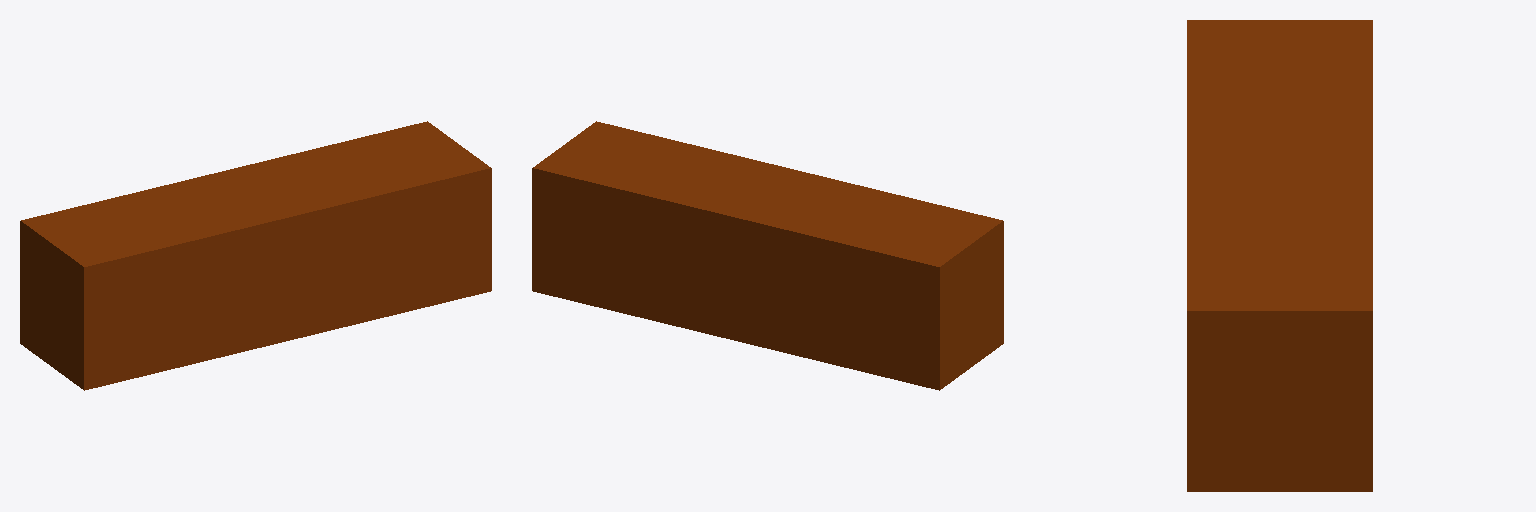
The robot description file, URDF, robot "handle_head":
<?xml version="1.0"?>
<robot name="handle_head">

  <link name="handle_head">
    <!-- Handle -->
    <visual>
      <origin xyz="0 0 0" rpy="0 0 0"/>
      <geometry>
        <box size="0.08439359810342732 0.02293262848506023 0.0244315399122094"/>
      </geometry>
      <material name="brown">
        <color rgba="0.55 0.27 0.07 1.0"/>
      </material>
    </visual>
    <collision>
      <origin xyz="0 0 0" rpy="0 0 0"/>
      <geometry>
        <box size="0.08439359810342732 0.02293262848506023 0.0244315399122094"/>
      </geometry>
    </collision>

    <inertial>
      <origin xyz="0 0 0" rpy="0 0 0"/>
      <mass value="0.015839383111631952"/>
      <inertia ixx="1.4820456605889342e-06" iyy="1.0188920174515997e-05" izz="1.0095210829078563e-05" ixy="0" ixz="0" iyz="0"/>
    </inertial>
  </link>

</robot>

--- What the picture shows (computed from the rendered views, not written in the file) ---
The picture shows the robot from 3 angles, left to right: view 1: azimuth 30°, elevation 25°; view 2: azimuth 150°, elevation 25°; view 3: azimuth 270°, elevation 25°; orthographic projection.
Robot: handle_head — 1 links, 0 joints (none); root link handle_head; default pose: every joint at zero.
Links seen in each view (by area): view 1: handle_head; view 2: handle_head; view 3: handle_head.
Link boxes in pixels (box(x1,y1,x2,y2)): handle_head: box(20, 121, 491, 390); handle_head: box(532, 121, 1003, 390); handle_head: box(1187, 20, 1372, 491).
Size in the robot's own frame: 0.0844 by 0.0229 by 0.0244 metres.
Geometry: primitives only (box / cylinder / sphere), no mesh files.
